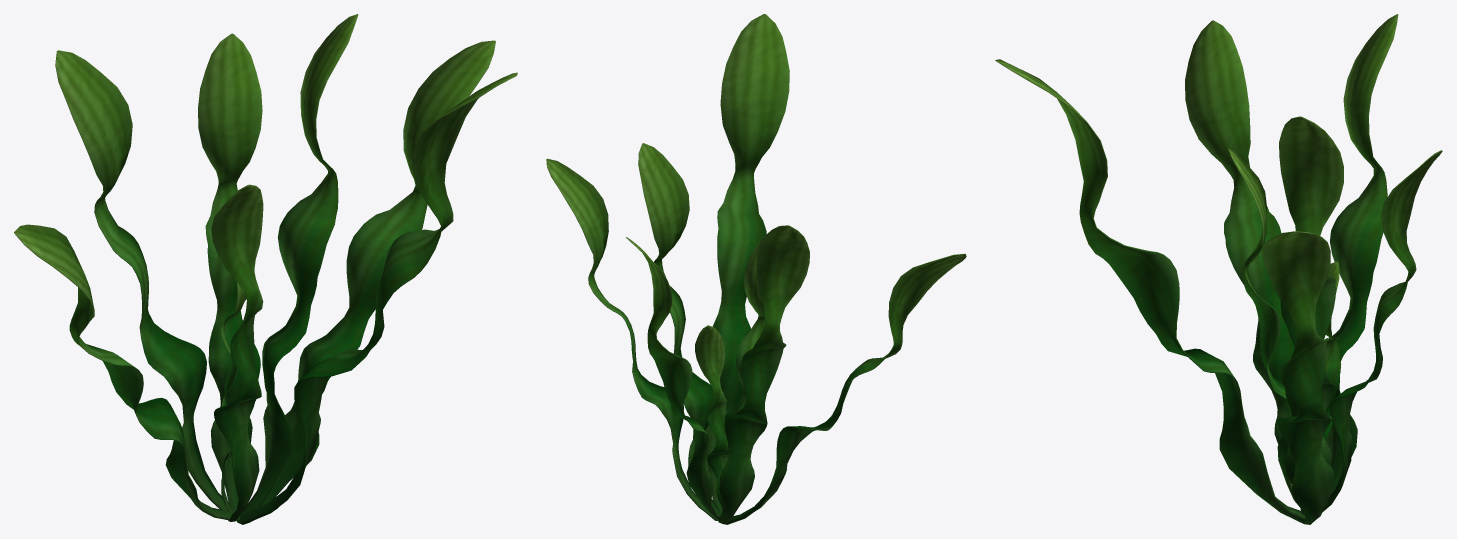
File: Cartoon Seaweed_10_5.FBX
3 renders of one model, left to right at view 1: azimuth 30°, elevation 25°; view 2: azimuth 150°, elevation 25°; view 3: azimuth 270°, elevation 25°, orthographic. The views are drawn at different scales.
Parts seen in each view (by area): view 1: Cartoon Seaweed 10.5; view 2: Cartoon Seaweed 10.5; view 3: Cartoon Seaweed 10.5.
Boxes of the visible parts, <box> form: Cartoon Seaweed 10.5: <box>14,14,517,524</box>; Cartoon Seaweed 10.5: <box>546,14,966,524</box>; Cartoon Seaweed 10.5: <box>995,14,1442,524</box>.
Size of the model in its own units: 22.87 by 22.56 by 17.89.
